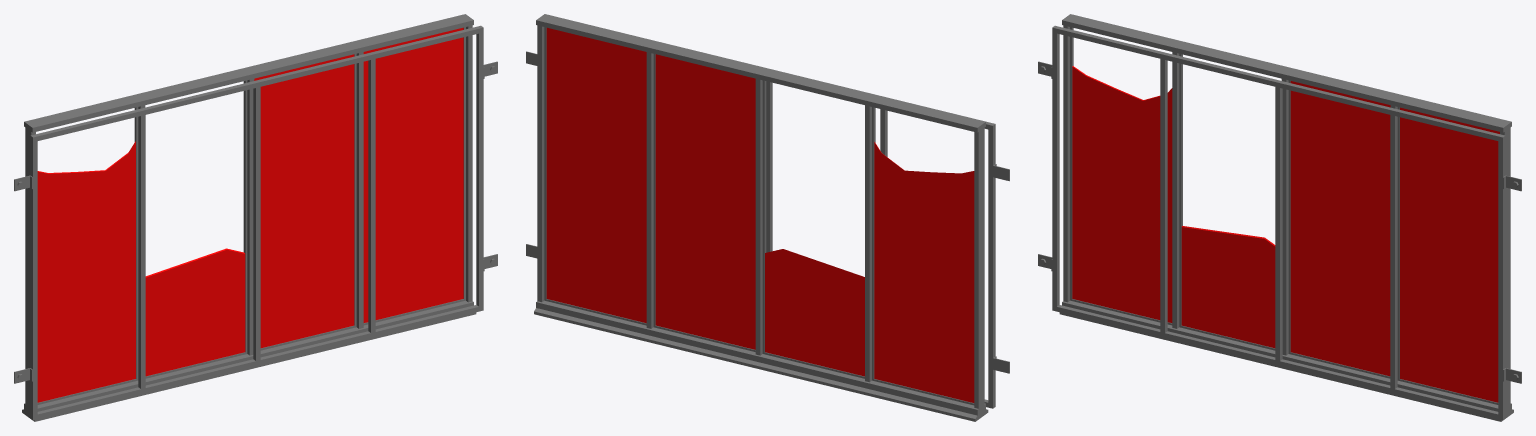
File: Window04_Broken03.fbx
3 renders of one model, left to right at view 1: azimuth 30°, elevation 25°; view 2: azimuth 150°, elevation 25°; view 3: azimuth 330°, elevation 25°, orthographic.
Visible parts, largest first — view 1: Window04_Broken03; view 2: Window04_Broken03; view 3: Window04_Broken03.
Boxes of the visible parts, bbox=[...] form: Window04_Broken03: bbox=[14, 14, 497, 421]; Window04_Broken03: bbox=[526, 14, 1009, 421]; Window04_Broken03: bbox=[1038, 14, 1521, 421].
Bounding box in the file's own units: 263 × 152 × 14.75.
